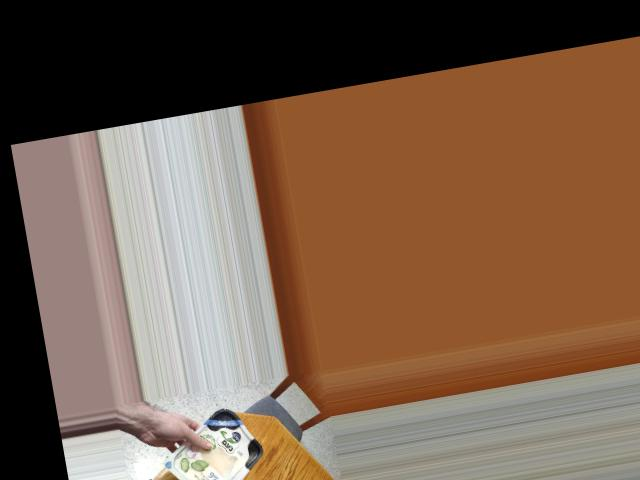cheese: (171, 401, 270, 480)
